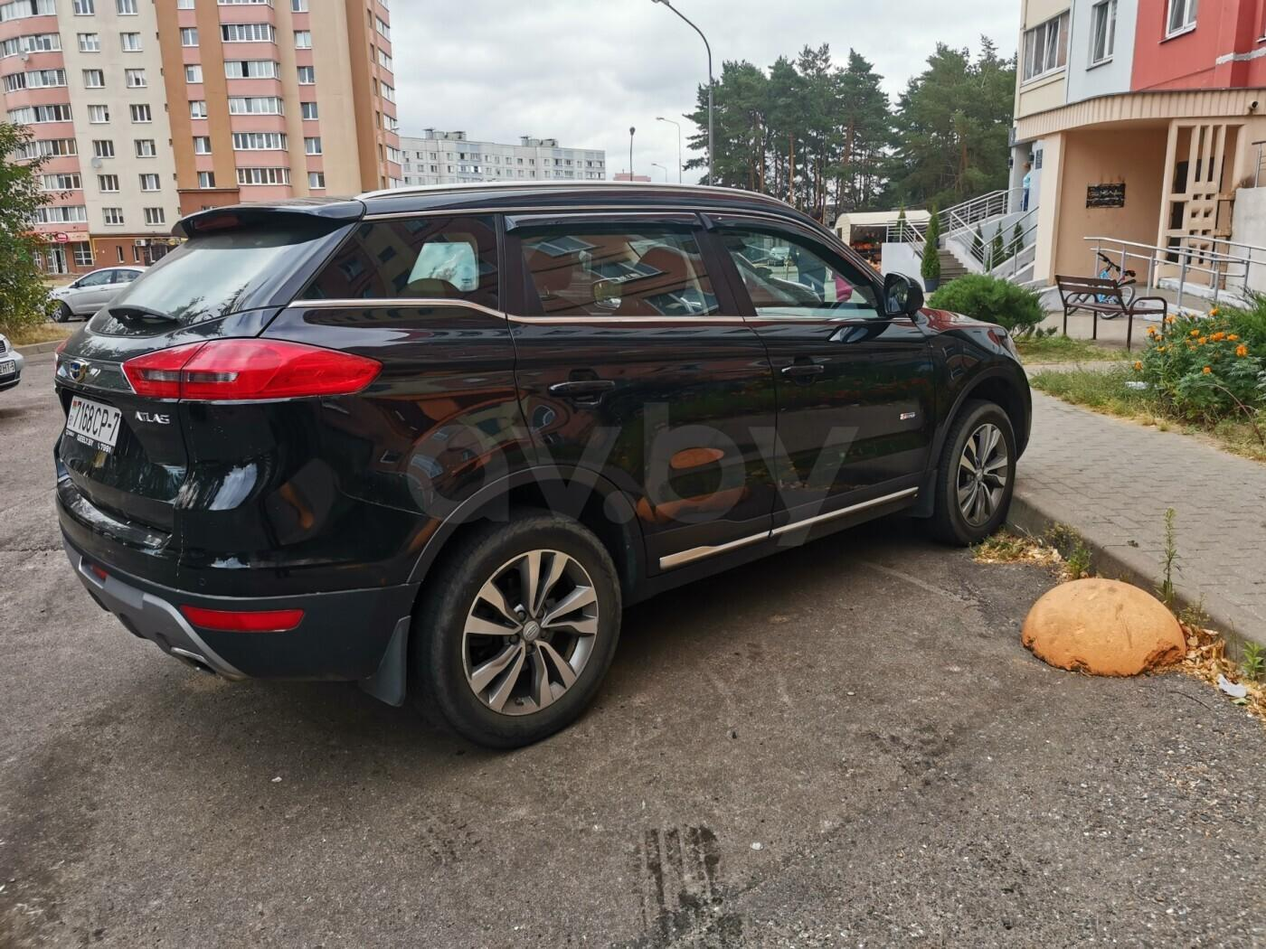Atlas_2016-2023: (47, 177, 1037, 748)
